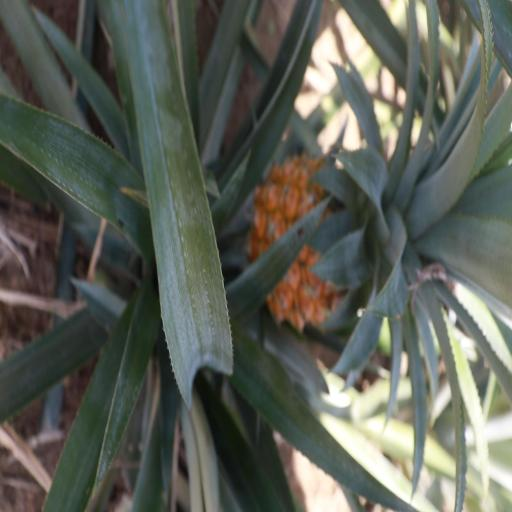Pineapple - v8 v1: (251, 151, 512, 340)
